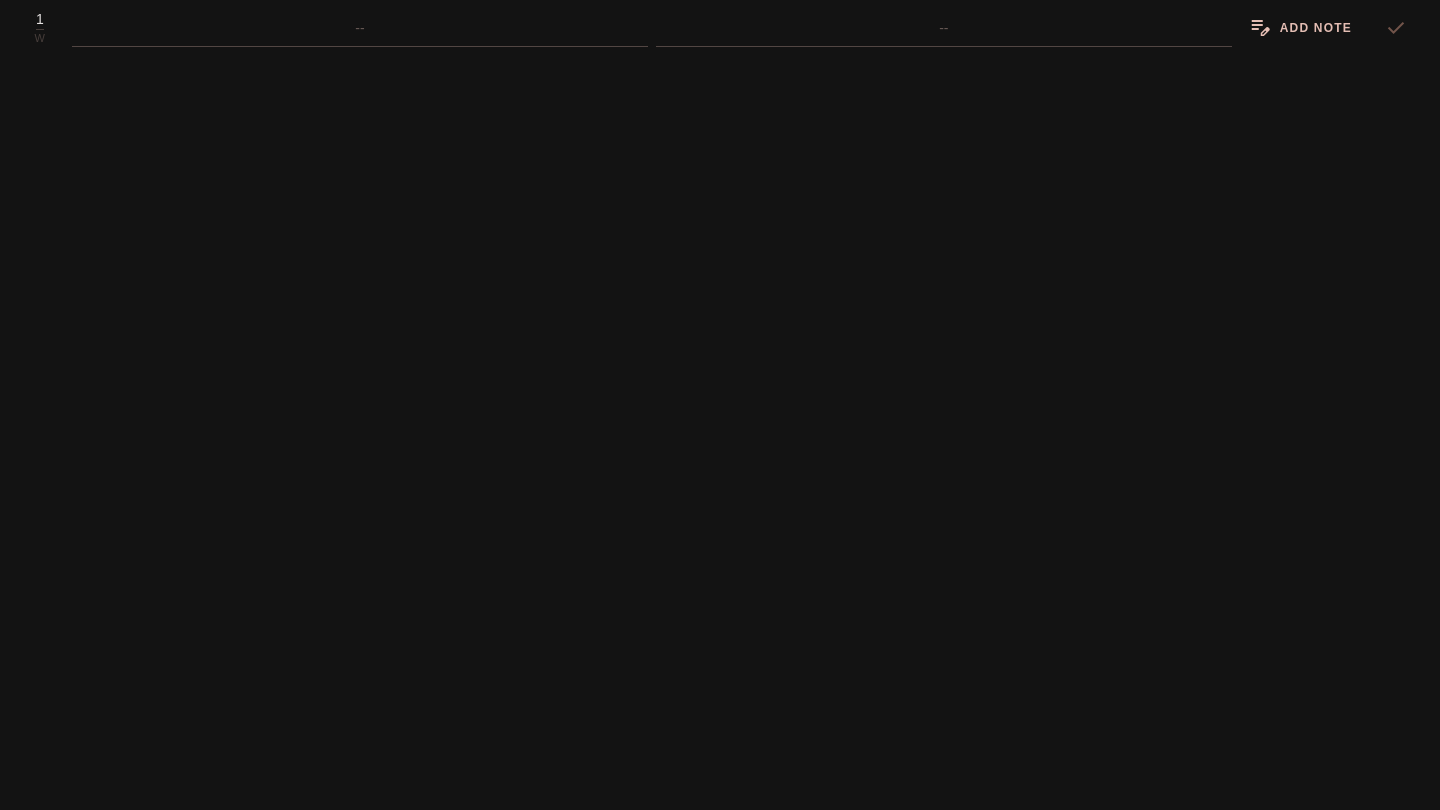
it: set-row note affordance › opens the note sheet in a single tap (<=2 taps from set row default state)
Click the button with aria-label "add set note" at (1300, 28), box [1240,4,1360,52]
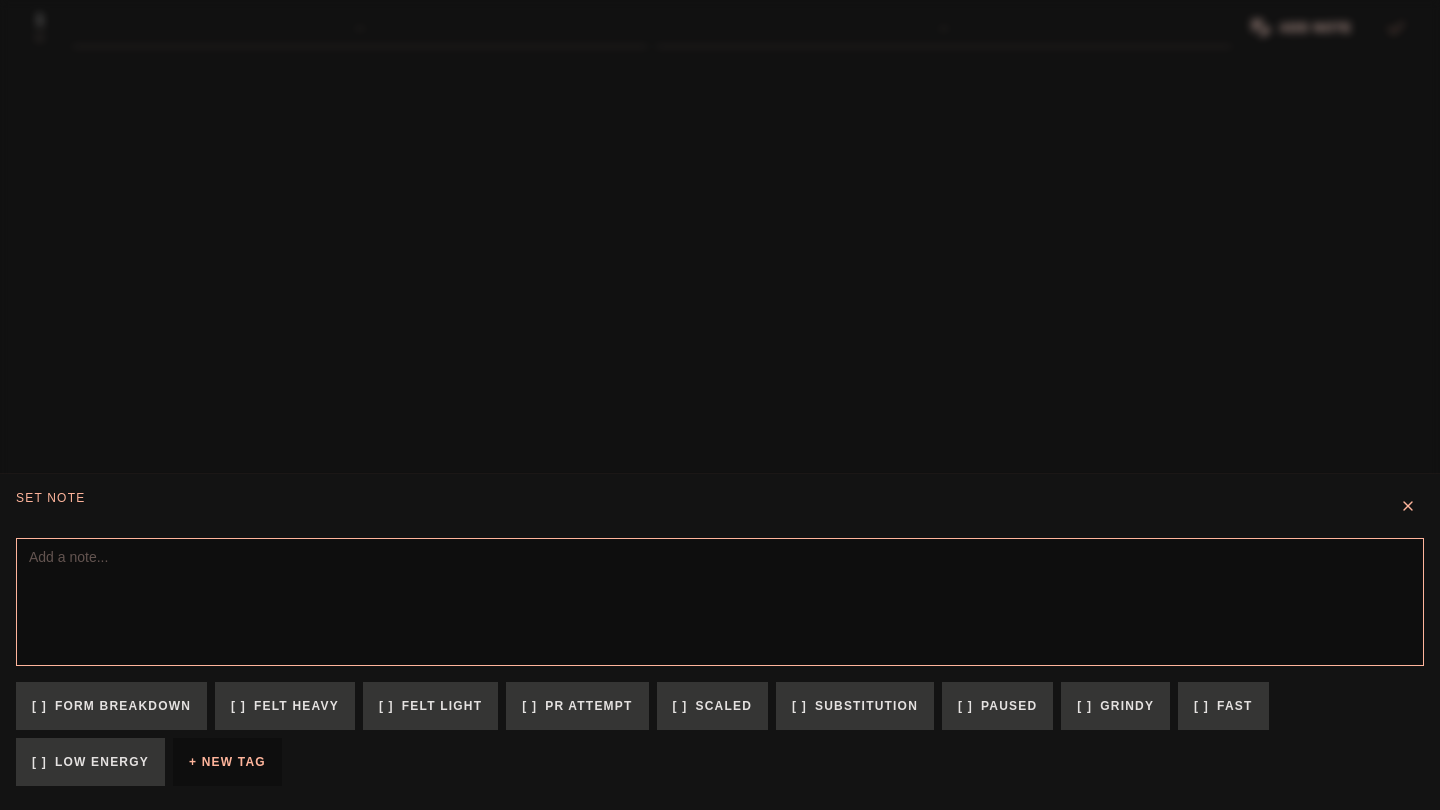
Now the heading "Set Note" is shown, box [16,491,85,505]
